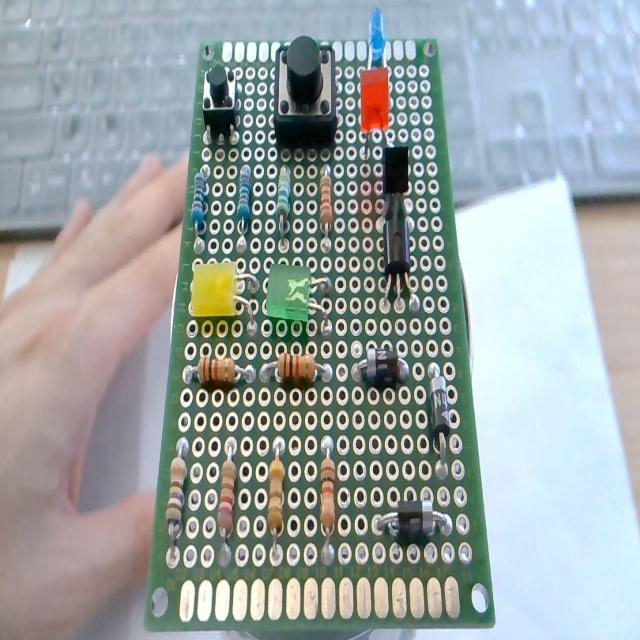diode: (376, 498, 450, 540), (427, 361, 452, 470), (352, 345, 408, 388)
led: (262, 266, 335, 338), (188, 260, 260, 324), (360, 67, 389, 133), (368, 6, 385, 66)
resistor: (216, 439, 236, 564), (262, 352, 334, 386), (189, 349, 255, 386), (166, 436, 189, 540), (319, 436, 337, 566), (266, 440, 285, 556), (276, 164, 291, 243), (319, 168, 333, 250), (191, 169, 208, 236), (237, 165, 252, 232)
switch: (273, 37, 338, 150), (202, 63, 240, 141)
transistor: (380, 215, 420, 312), (375, 146, 415, 227)
